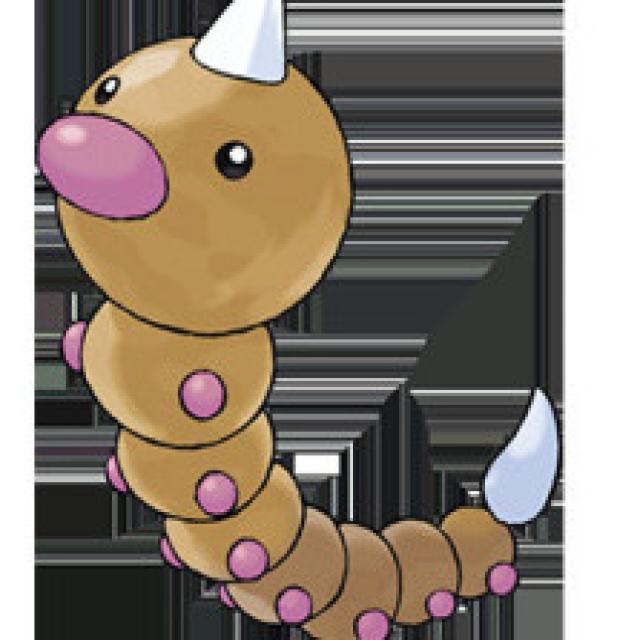Weedle: (28, 0, 371, 605)
